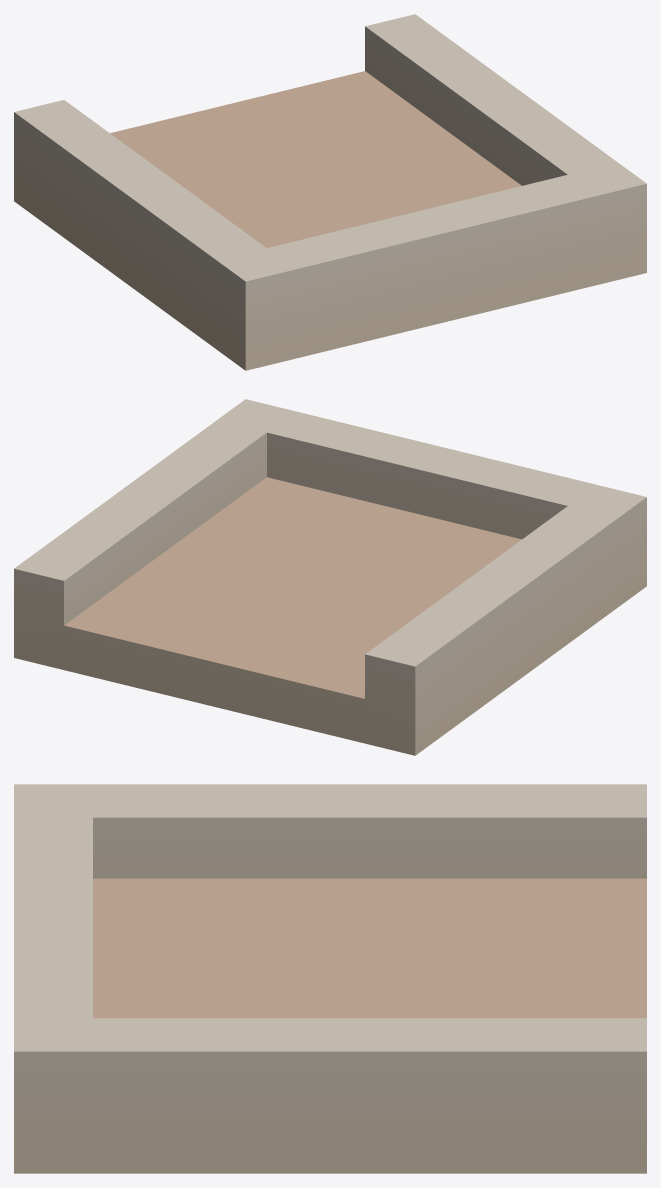
The model's file is roof-flat-border-end.glb.
3 views of the same model, one above another, from view 1: azimuth 30°, elevation 25°; view 2: azimuth 150°, elevation 25°; view 3: azimuth 270°, elevation 25° (orthographic). The views are drawn at different scales.
Parts seen in each view (by area): view 1: roof-flat-border-end; view 2: roof-flat-border-end; view 3: roof-flat-border-end.
Boxes of the visible parts, <box> form: roof-flat-border-end: <box>14,14,646,370</box>; roof-flat-border-end: <box>14,399,646,755</box>; roof-flat-border-end: <box>14,784,646,1173</box>.
Bounding box in the file's own units: 1 × 0.2125 × 1.
